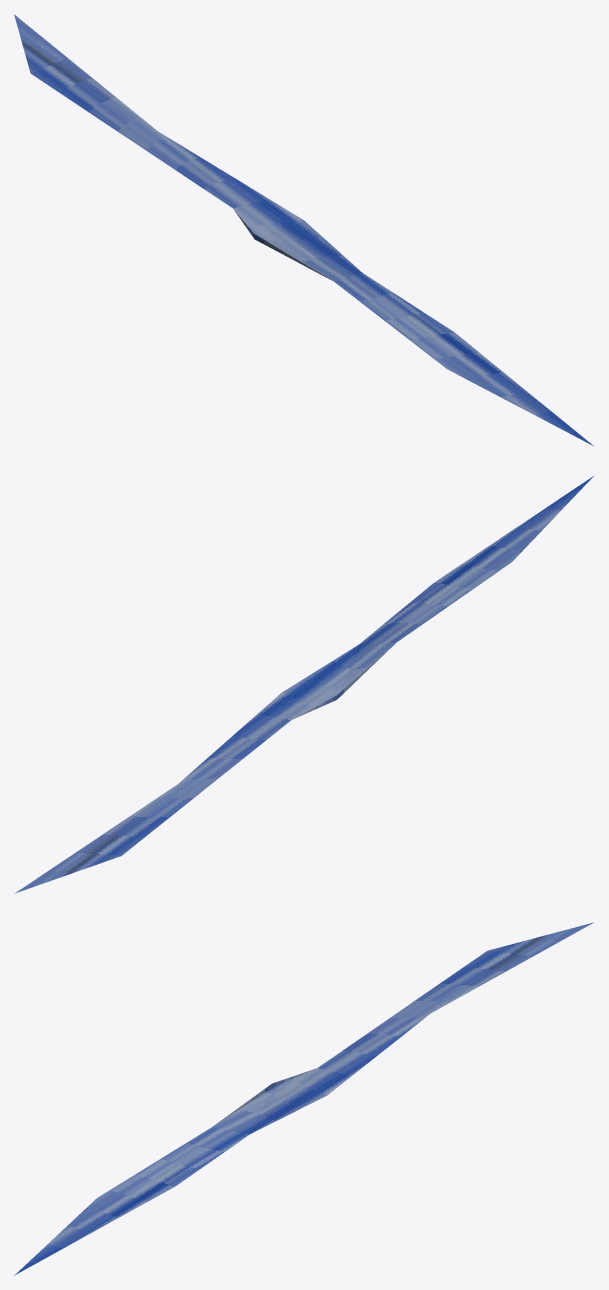
The picture shows the model from 3 angles, top to bottom: view 1: azimuth 30°, elevation 25°; view 2: azimuth 150°, elevation 25°; view 3: azimuth 330°, elevation 25°; orthographic projection. The views are drawn at different scales.
Visible parts, largest first — view 1: lb_kz_g8_L0_add; view 2: lb_kz_g8_L0_add; view 3: lb_kz_g8_L0_add.
Boxes of the visible parts, x1,y1,x2,y2 form: lb_kz_g8_L0_add: [14, 14, 593, 445]; lb_kz_g8_L0_add: [14, 475, 594, 893]; lb_kz_g8_L0_add: [14, 922, 593, 1275].
Size of the model in its own units: 0.14 by 0.07 by 2.11.
